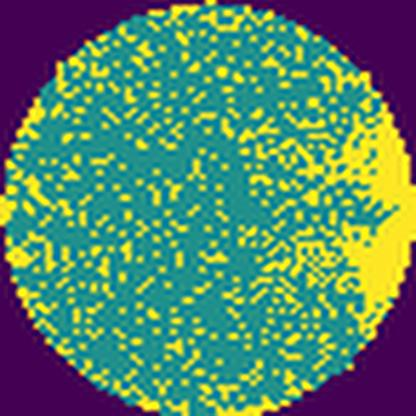Edge-Loc: (332, 91, 416, 340)
